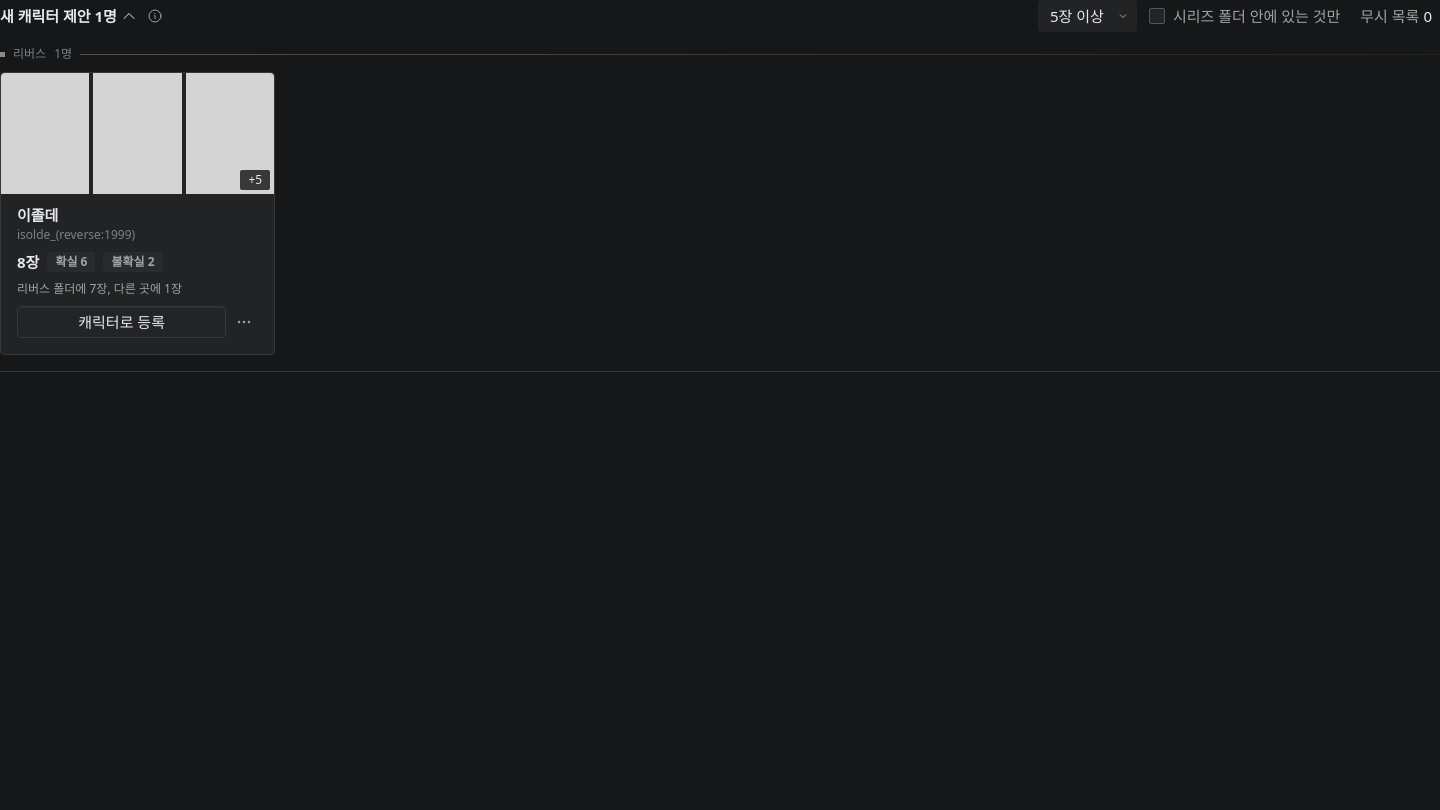
Test: character suggestions › opens the shared registration dialog from the overview
Click the button "캐릭터로 등록".
click(122, 322)  # box [17,306,226,338]
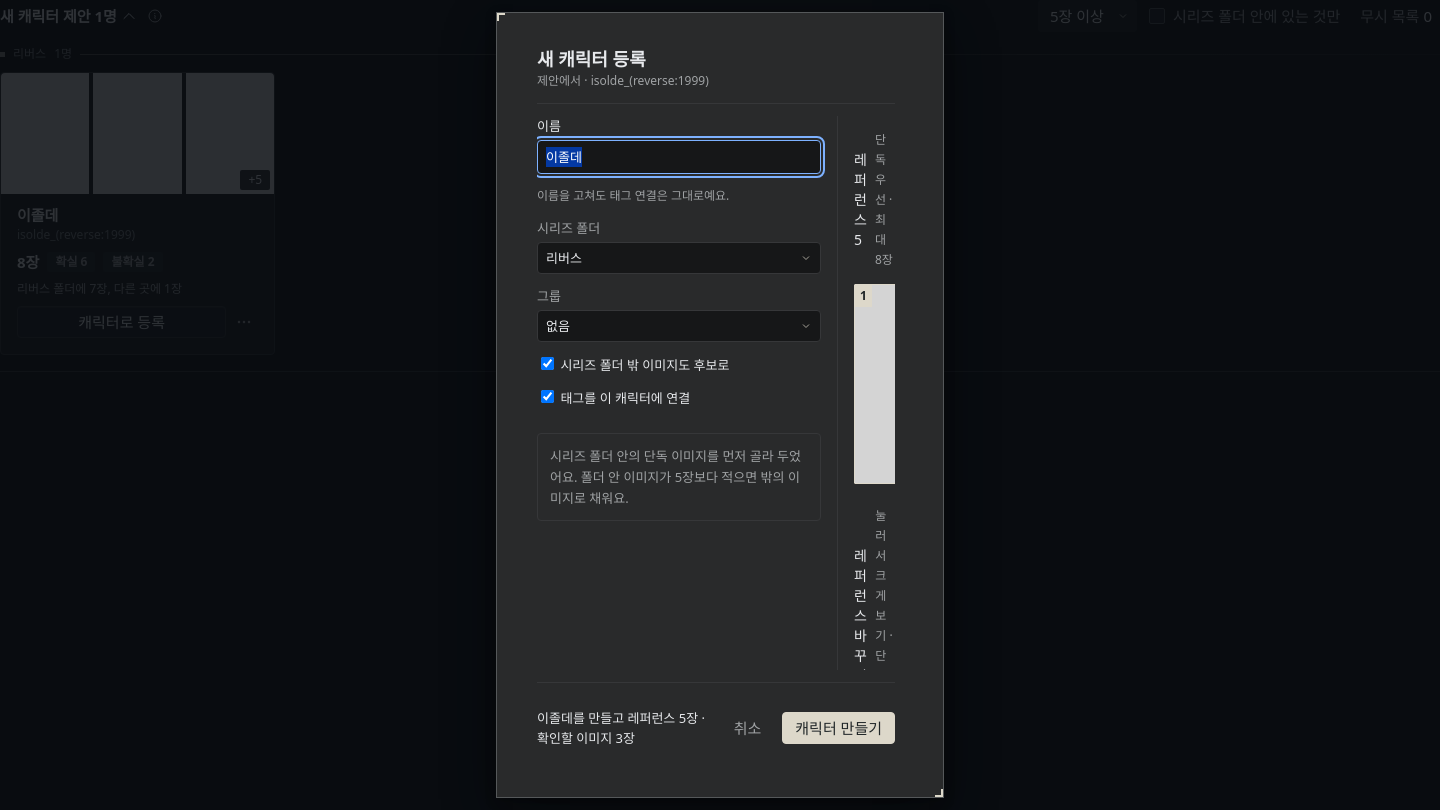
Check: the dialog "새 캐릭터 등록" is shown, box [496,12,944,798]
Check: the field showing "이졸데" is shown, box [537,140,821,174]
